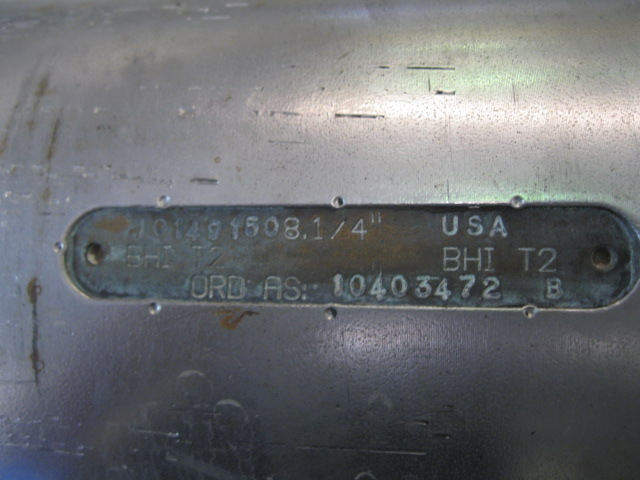character: (453, 266, 479, 307), (482, 209, 514, 242), (435, 239, 464, 275), (410, 268, 437, 306), (279, 268, 306, 305), (476, 269, 503, 306), (431, 270, 457, 307), (436, 206, 464, 238), (478, 242, 505, 275), (225, 270, 251, 304), (367, 266, 392, 301), (122, 237, 145, 274), (538, 243, 564, 274), (461, 243, 485, 276), (540, 275, 569, 302), (305, 213, 326, 249), (207, 269, 231, 300), (346, 268, 368, 300), (141, 239, 163, 271), (348, 215, 369, 247), (281, 211, 300, 246), (390, 267, 410, 300), (519, 242, 537, 278), (262, 272, 285, 300), (190, 272, 211, 301), (260, 211, 281, 240), (228, 212, 246, 244), (332, 268, 351, 298), (327, 213, 344, 246), (243, 207, 257, 247), (207, 244, 230, 268), (464, 212, 485, 238), (180, 218, 201, 244), (160, 239, 176, 273), (150, 216, 170, 241), (189, 244, 209, 267), (205, 218, 224, 242), (131, 216, 148, 241), (169, 217, 180, 244)
